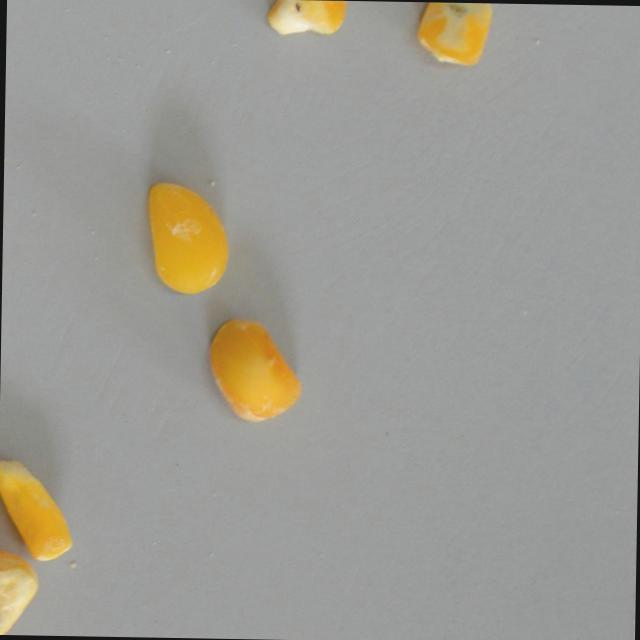dañado: (207, 315, 301, 425), (412, 2, 500, 74), (0, 547, 40, 635)
pelicula: (144, 175, 229, 292), (0, 449, 61, 566)
punto_negro: (264, 0, 350, 39)
